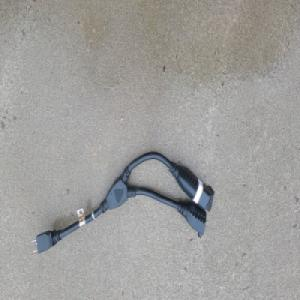Wire: (31, 149, 215, 255)
